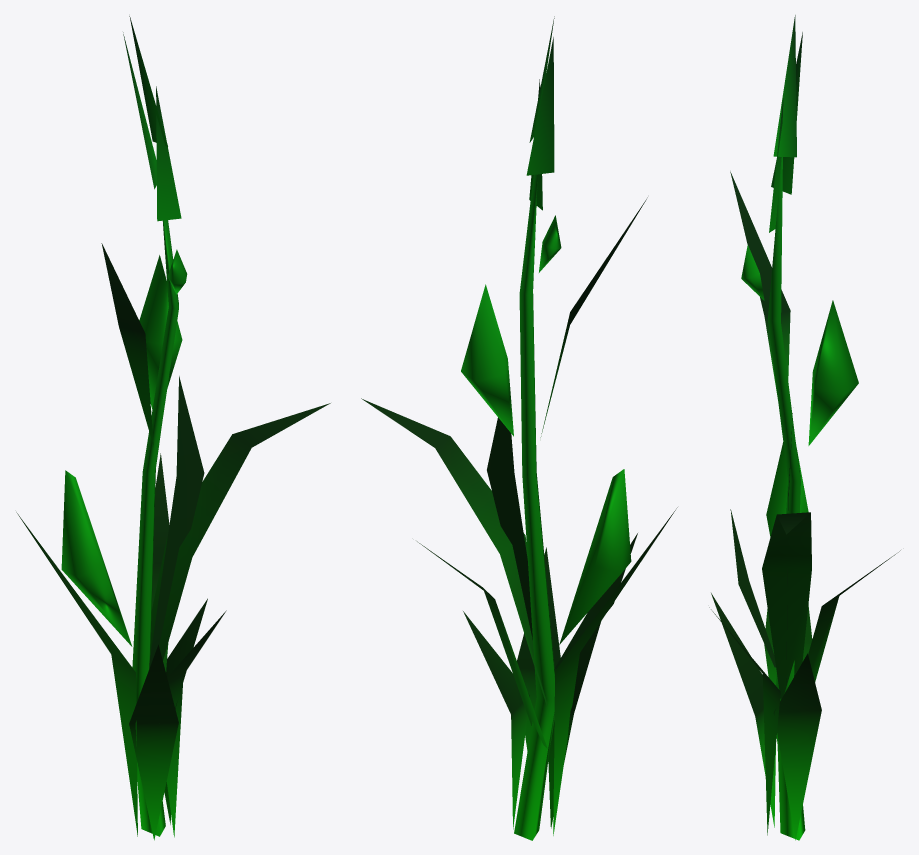
The model's file is env_foliage_cucumberplant01_lod1.fbx.
3 views of the same model, side by side, from view 1: azimuth 30°, elevation 25°; view 2: azimuth 150°, elevation 25°; view 3: azimuth 270°, elevation 25° (orthographic). The views are drawn at different scales.
Visible parts, largest first — view 1: env_foliage_cucumberplant01_lod1; view 2: env_foliage_cucumberplant01_lod1; view 3: env_foliage_cucumberplant01_lod1.
Boxes of the visible parts, <box> form: env_foliage_cucumberplant01_lod1: <box>16,16,330,840</box>; env_foliage_cucumberplant01_lod1: <box>361,16,677,840</box>; env_foliage_cucumberplant01_lod1: <box>709,15,900,840</box>.
Size of the model in its own units: 7.55 by 18.73 by 4.15.
